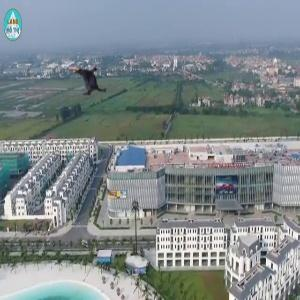drone: (67, 59, 112, 104)
